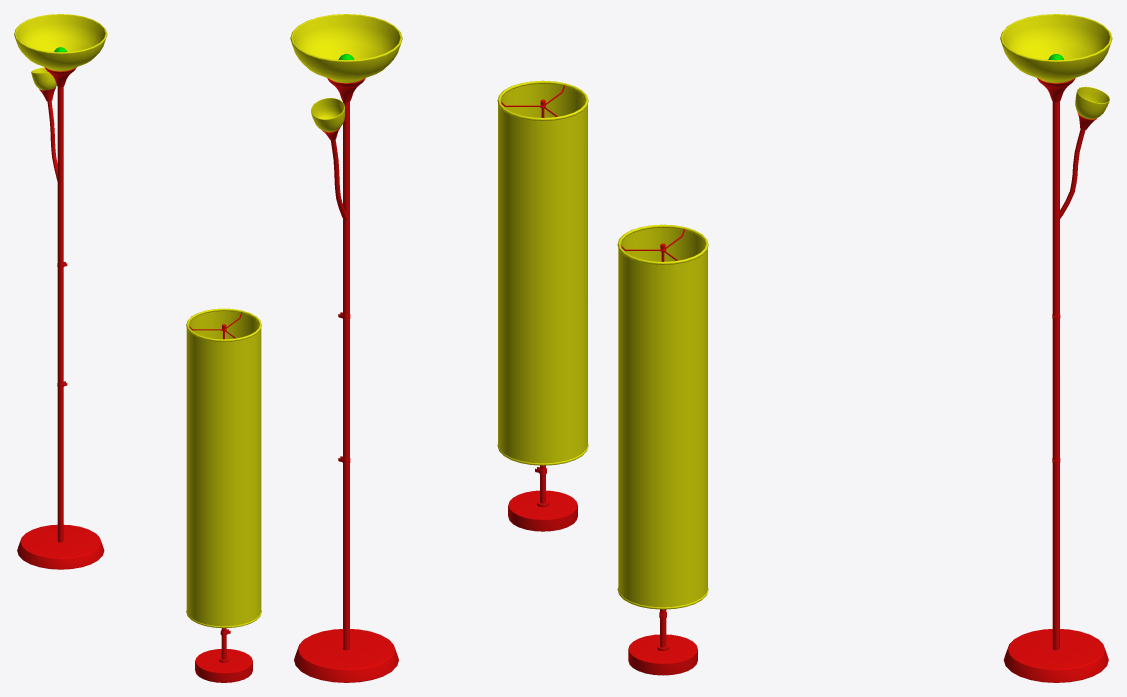
Rendered from thorkea_floor_lamps_grp.fbx.
The picture shows the model from 3 angles, left to right: view 1: azimuth 30°, elevation 25°; view 2: azimuth 150°, elevation 25°; view 3: azimuth 270°, elevation 25°; orthographic projection. The views are drawn at different scales.
Visible parts, largest first — view 1: thorkea_floor_lamp_holmo, thorkea_floor_lamp_not; view 2: thorkea_floor_lamp_holmo, thorkea_floor_lamp_not; view 3: thorkea_floor_lamp_holmo, thorkea_floor_lamp_not.
Part boxes in pixels (left/top/right/bottom): thorkea_floor_lamp_holmo: left=186, top=308, right=261, bottom=682; thorkea_floor_lamp_not: left=14, top=14, right=107, bottom=569; thorkea_floor_lamp_holmo: left=497, top=80, right=588, bottom=531; thorkea_floor_lamp_not: left=290, top=14, right=402, bottom=682; thorkea_floor_lamp_holmo: left=617, top=224, right=708, bottom=675; thorkea_floor_lamp_not: left=1000, top=14, right=1112, bottom=682.
Bounding box in the file's own units: 28.6 × 175 × 126.
